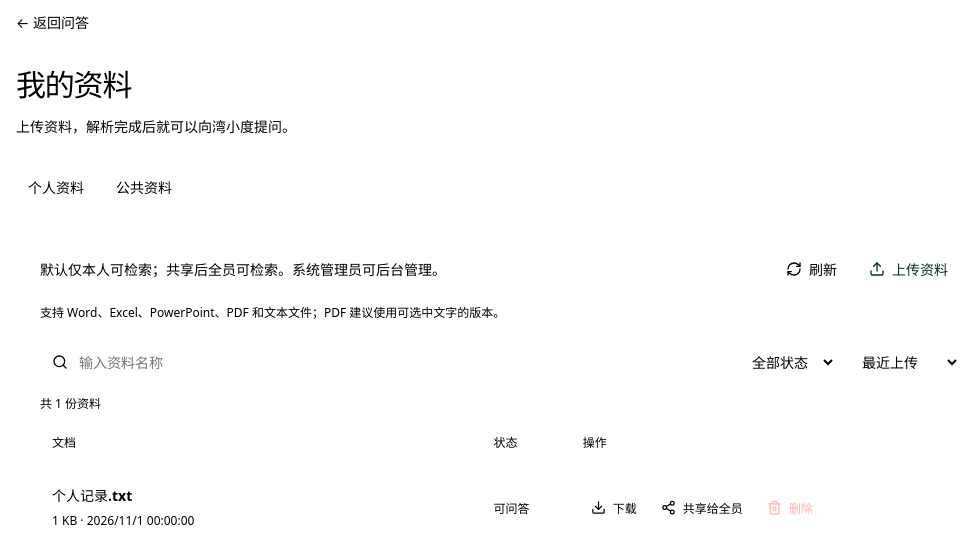
Test case: 用户资料和角色 › 切换个人和公共资料时重置筛选，不残留另一范围的结果
Expected: the text "个人记录.txt" is shown, [52, 486, 132, 505]
Type "个人" into the search field named "搜索资料名称" at (396, 362), box [77, 343, 714, 381]
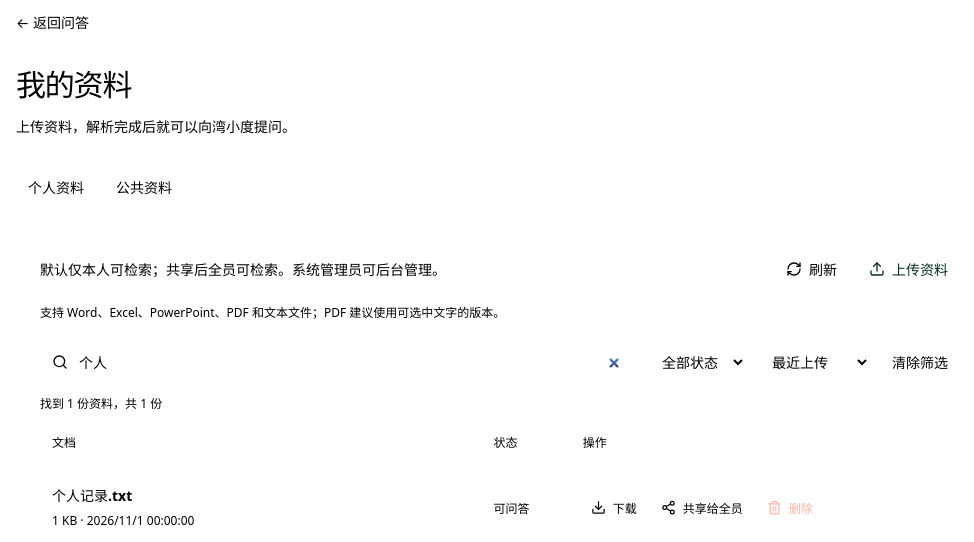
Click the button "公共资料" at (144, 187), box [104, 168, 184, 206]
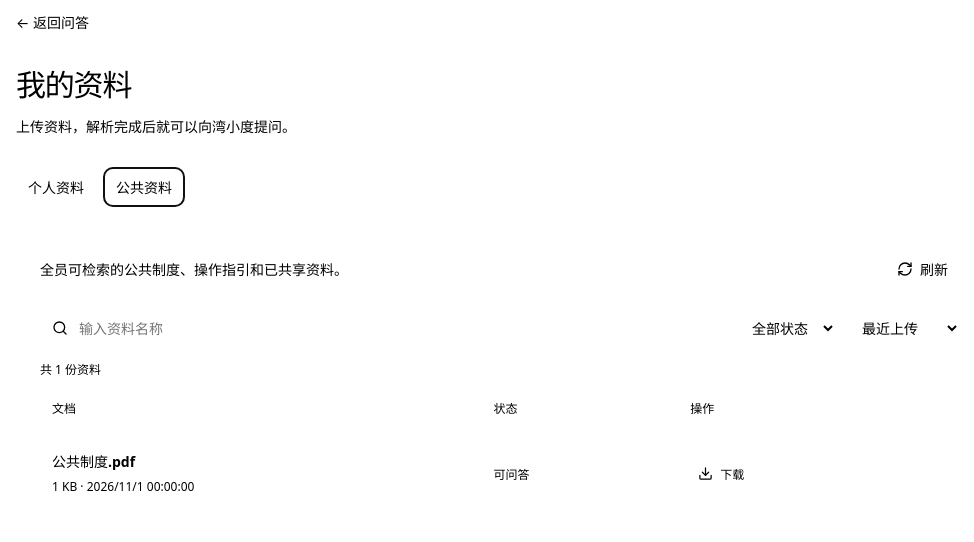
Expected: the text "公共制度.pdf" is shown, [52, 452, 135, 471]
Expected: the search field named "搜索资料名称" is empty, [77, 309, 714, 347]
Expected: the text "个人记录.txt" is gone
